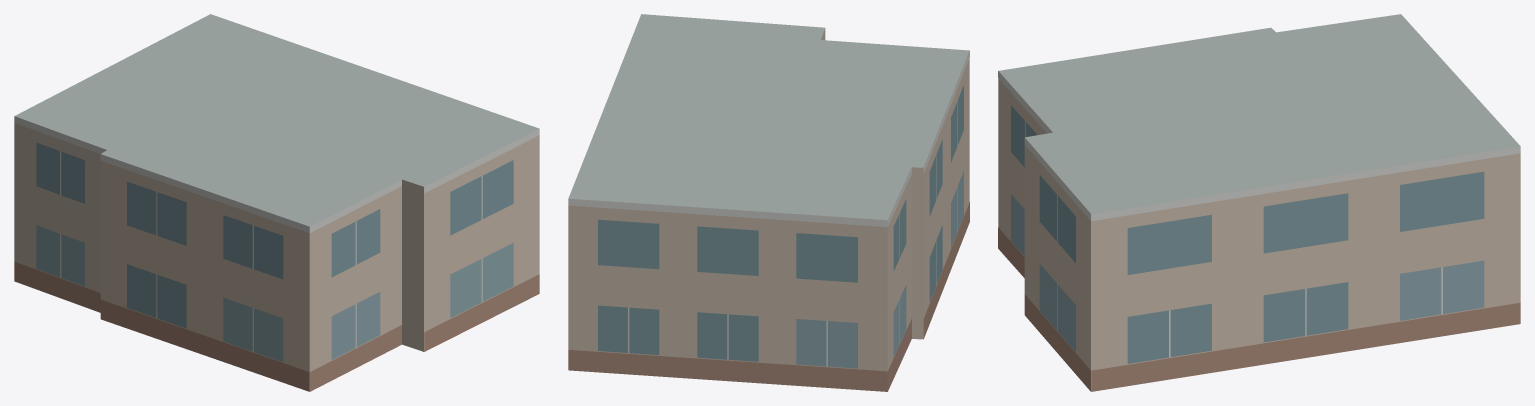
Rendered from survey-upis-32942320.glb.
3 views of the same model, side by side, from view 1: azimuth 30°, elevation 25°; view 2: azimuth 150°, elevation 25°; view 3: azimuth 270°, elevation 25° (orthographic). The views are drawn at different scales.
Parts seen in each view (by area): view 1: survey-upis-32942320.tmp; view 2: survey-upis-32942320.tmp; view 3: survey-upis-32942320.tmp.
Part boxes in pixels (box(x1,y1,x2,y2)): survey-upis-32942320.tmp: box(14, 14, 539, 391); survey-upis-32942320.tmp: box(568, 14, 969, 391); survey-upis-32942320.tmp: box(998, 14, 1520, 391).
Bounding box in the file's own units: 14.74 × 6.1 × 16.26.
